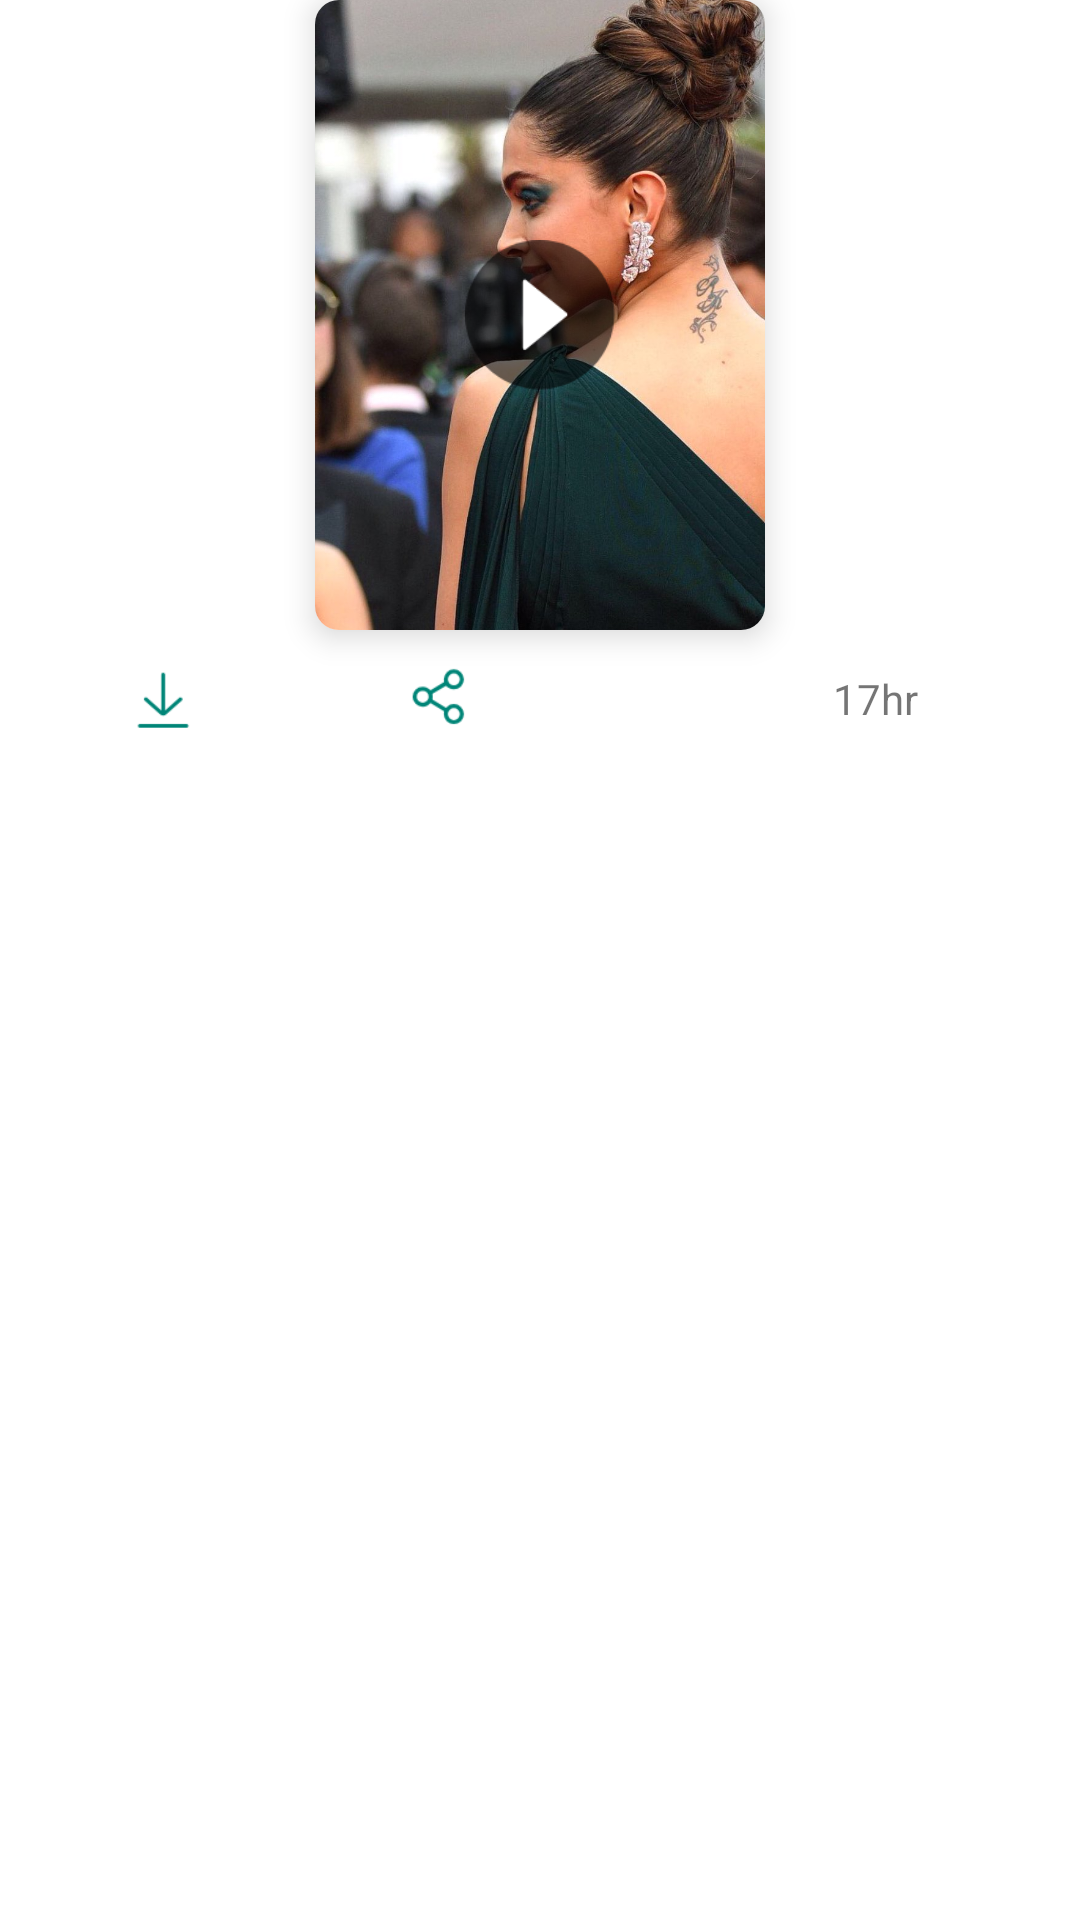

Where to tap for icons on this 1080w x 1920h app screen, as (x=x, y=y):
download: (x=163, y=700)
share: (x=438, y=696)
